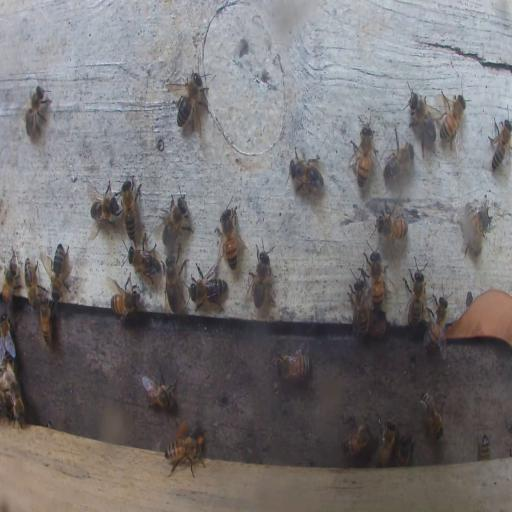nonpollenbee: (405, 84, 438, 156), (174, 72, 209, 134), (381, 128, 414, 182), (349, 122, 376, 188), (288, 148, 325, 194), (88, 179, 121, 230), (439, 89, 466, 149), (189, 266, 227, 308), (248, 242, 272, 308), (404, 256, 426, 328), (24, 83, 52, 139), (424, 294, 450, 354), (160, 190, 188, 242), (165, 433, 203, 471), (417, 389, 445, 440), (488, 112, 512, 171), (141, 373, 176, 411), (376, 202, 408, 242), (49, 241, 71, 299), (341, 418, 371, 460), (465, 202, 488, 256), (349, 276, 369, 338), (222, 205, 240, 270), (129, 243, 162, 278), (164, 253, 183, 312), (110, 277, 138, 317), (276, 350, 310, 382), (121, 177, 140, 234), (6, 372, 26, 426), (376, 420, 396, 467), (2, 255, 19, 306), (370, 250, 383, 310), (38, 295, 53, 346), (24, 258, 38, 310), (0, 312, 15, 359), (396, 436, 413, 466), (478, 432, 492, 461)
pollenbee: (172, 422, 204, 448)
